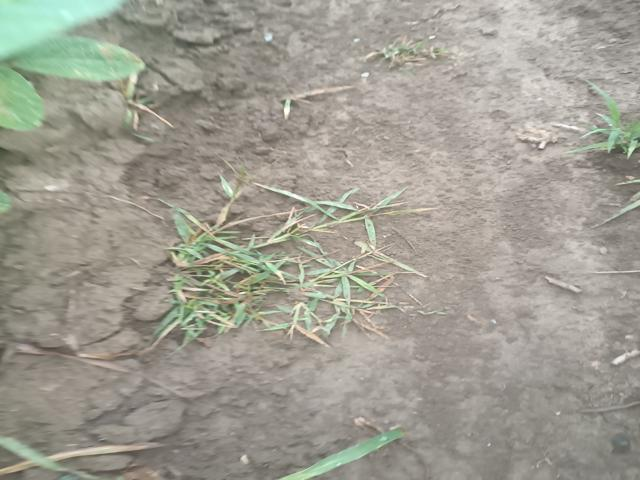bad weed: (153, 159, 402, 368), (0, 438, 434, 480), (545, 67, 640, 167), (354, 35, 469, 80)
